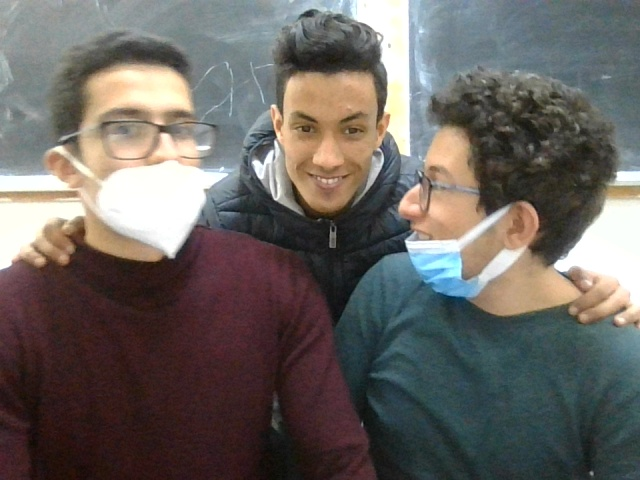mask_weared_incorrect: (400, 76, 564, 304), (54, 51, 214, 255)
without_mask: (267, 13, 396, 204)
